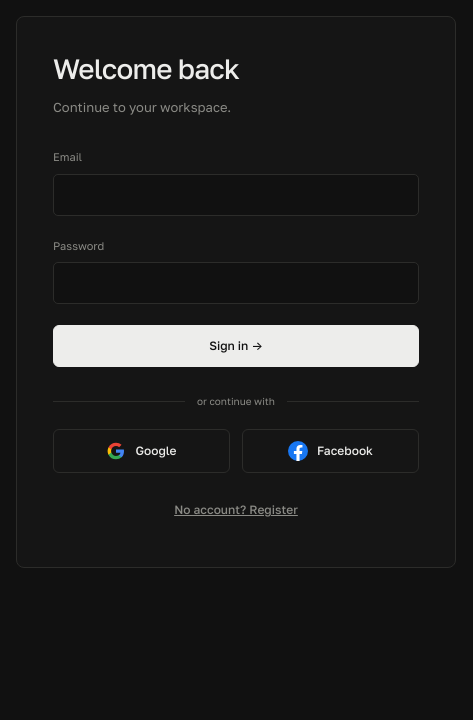
Test: authentication error experience › explains network failures without exposing a fetch exception
Type "person@example.test" into the field labelled "Email" at (236, 195), box [53,174,419,216]
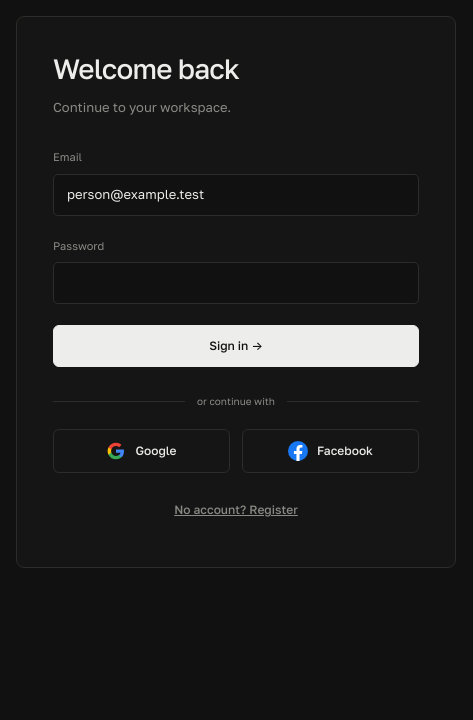
Type "test-password" into the password field labelled "Password" at (236, 283), box [53,262,419,304]
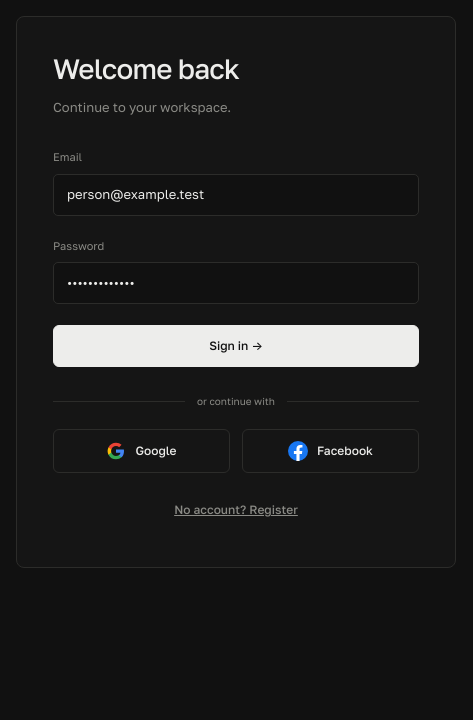
Click the button "Sign in →" at (236, 346), box [53,325,419,367]
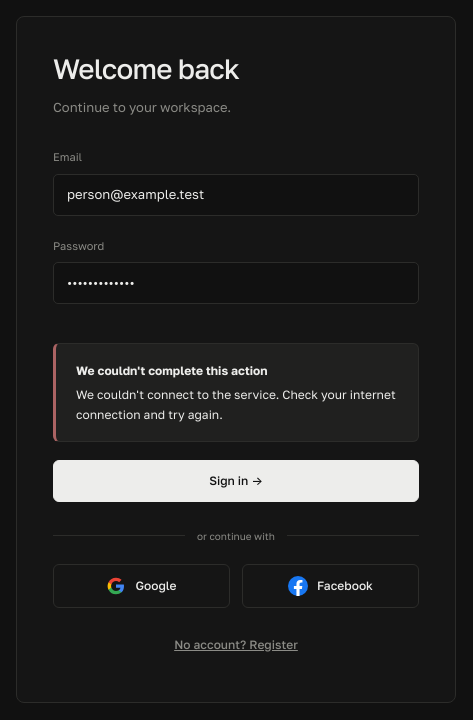
Result: the message shows "Check your internet connection" at [76,387,396,422]
